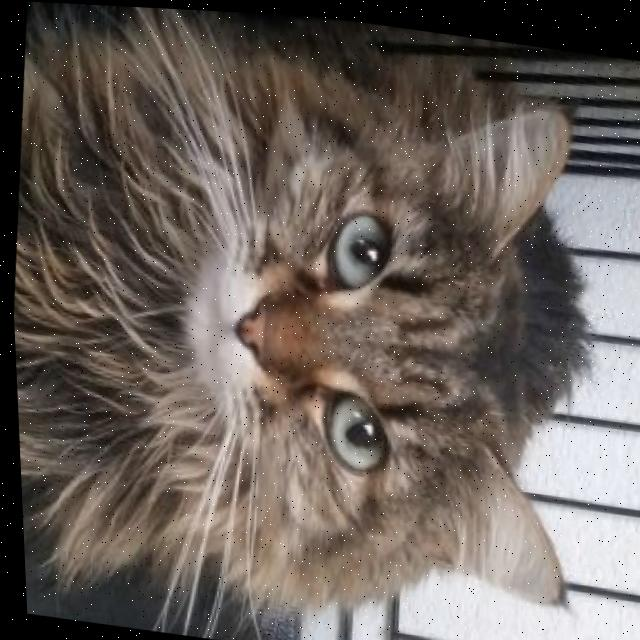Maine Coon: (0, 0, 627, 640)
